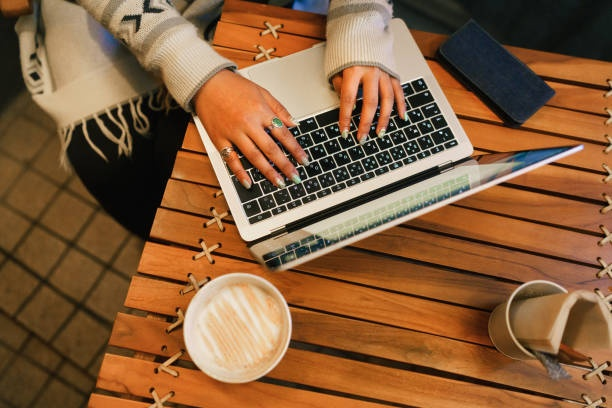keyboard: (221, 78, 460, 223)
laptop: (190, 18, 583, 263)
phone: (433, 19, 557, 129)
